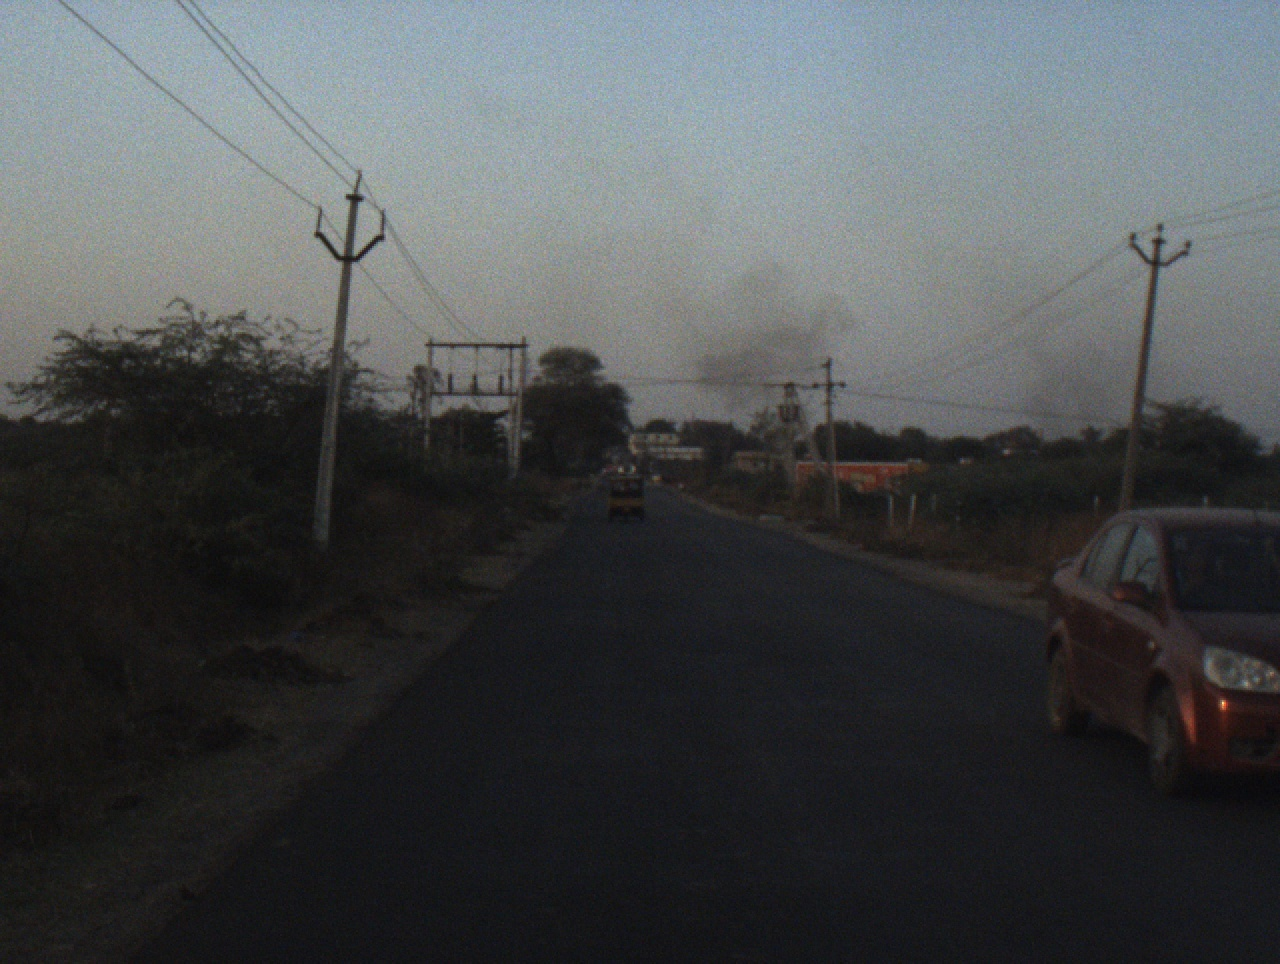autorickshaw: (598, 459, 651, 529)
car: (1029, 502, 1279, 795)
